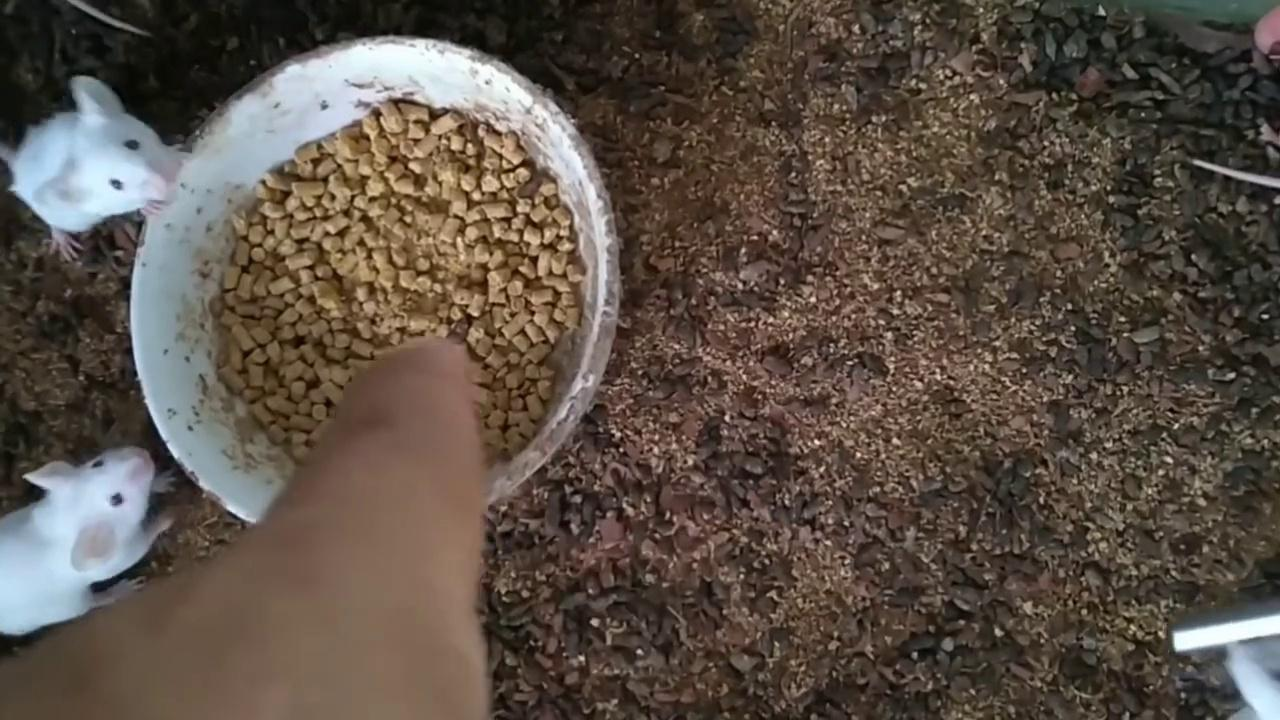rat: (0, 76, 194, 262), (0, 445, 177, 635)
